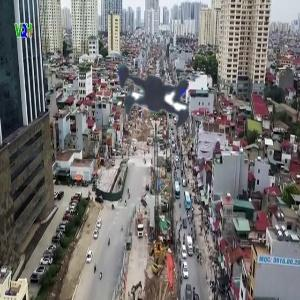drone: (74, 12, 239, 177)
